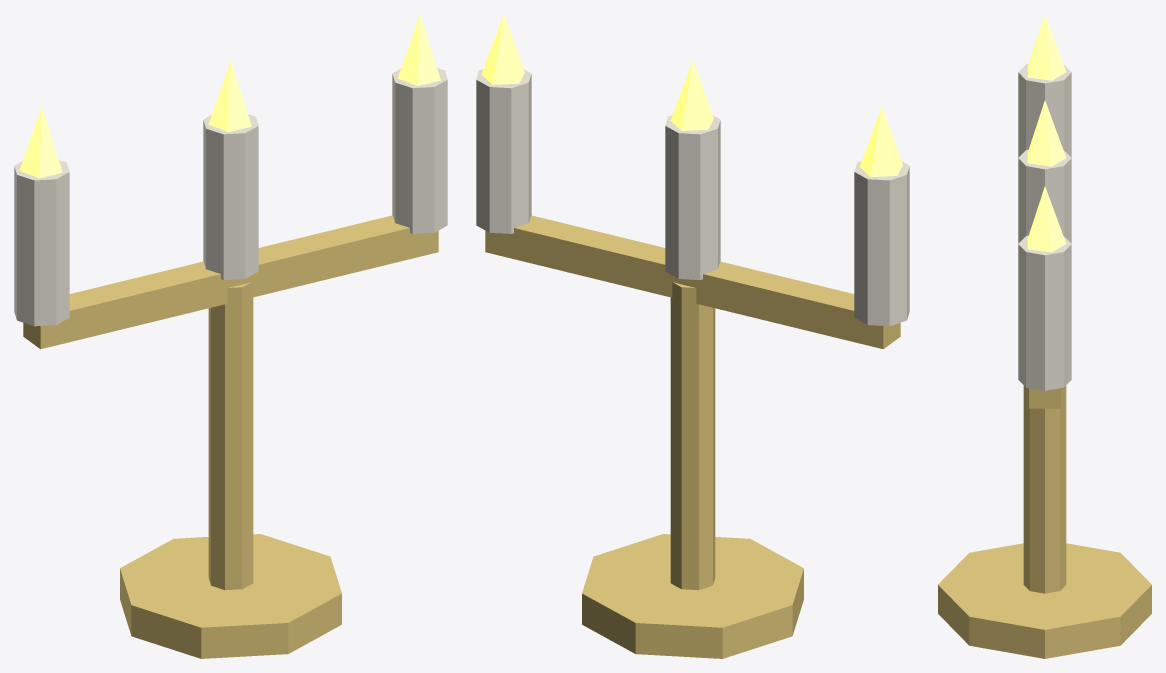
Rendered from candelabra.glb.
3 renders of one model, left to right at view 1: azimuth 30°, elevation 25°; view 2: azimuth 150°, elevation 25°; view 3: azimuth 270°, elevation 25°, orthographic. The views are drawn at different scales.
Parts seen in each view (by area): view 1: candelabra; view 2: candelabra; view 3: candelabra.
Boxes of the visible parts, x1,y1,x2,y2 form: candelabra: [14, 14, 447, 658]; candelabra: [476, 14, 909, 658]; candelabra: [938, 14, 1151, 658].
Size of the model in its own units: 0.43 by 0.53 by 0.2.
